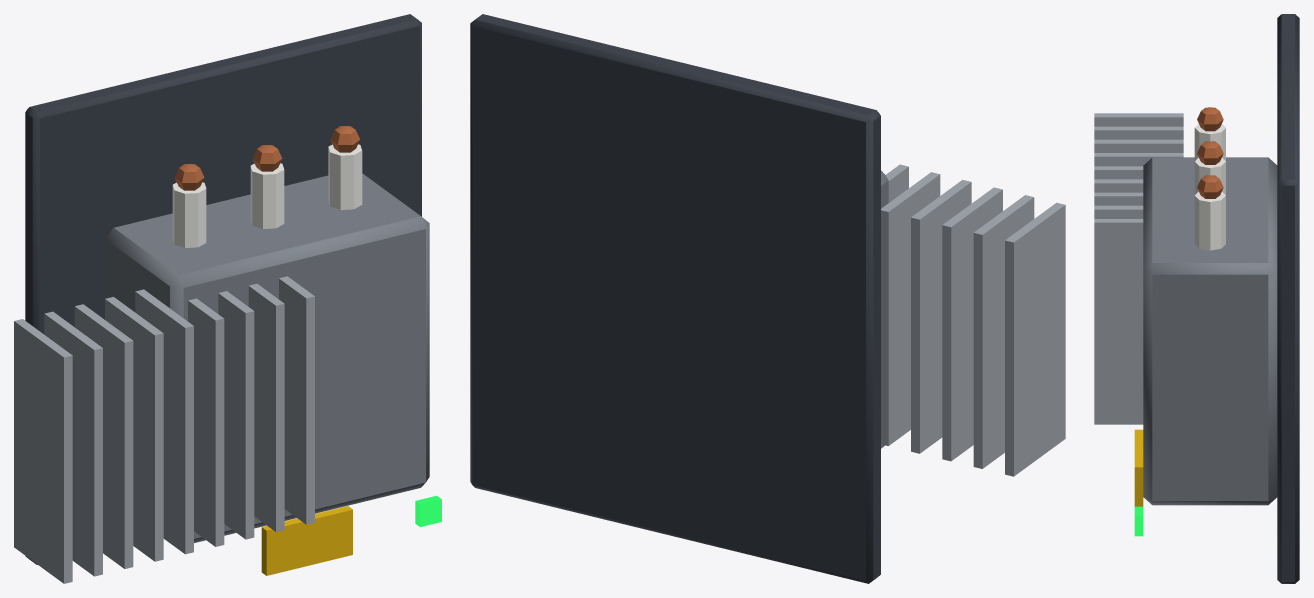
The model's file is generator_wall_transformer.glb.
The picture shows the model from 3 angles, left to right: view 1: azimuth 30°, elevation 25°; view 2: azimuth 150°, elevation 25°; view 3: azimuth 270°, elevation 25°; orthographic projection. The views are drawn at different scales.
Parts seen in each view (by area): view 1: generator_wall_transformer; view 2: generator_wall_transformer; view 3: generator_wall_transformer.
Part boxes in pixels (<box>): generator_wall_transformer: <box>14,14,441,583</box>; generator_wall_transformer: <box>470,14,1065,583</box>; generator_wall_transformer: <box>1094,14,1299,583</box>.
Bounding box in the file's own units: 1.07 × 1 × 0.46.
